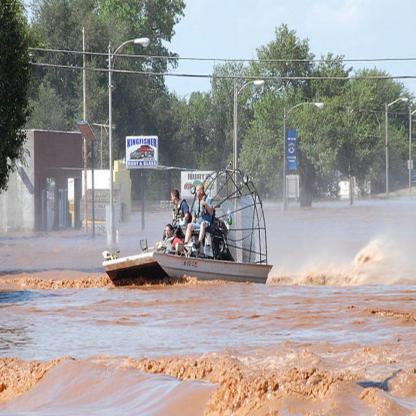face: (167, 228, 172, 239), (172, 193, 177, 203), (197, 186, 201, 198)
